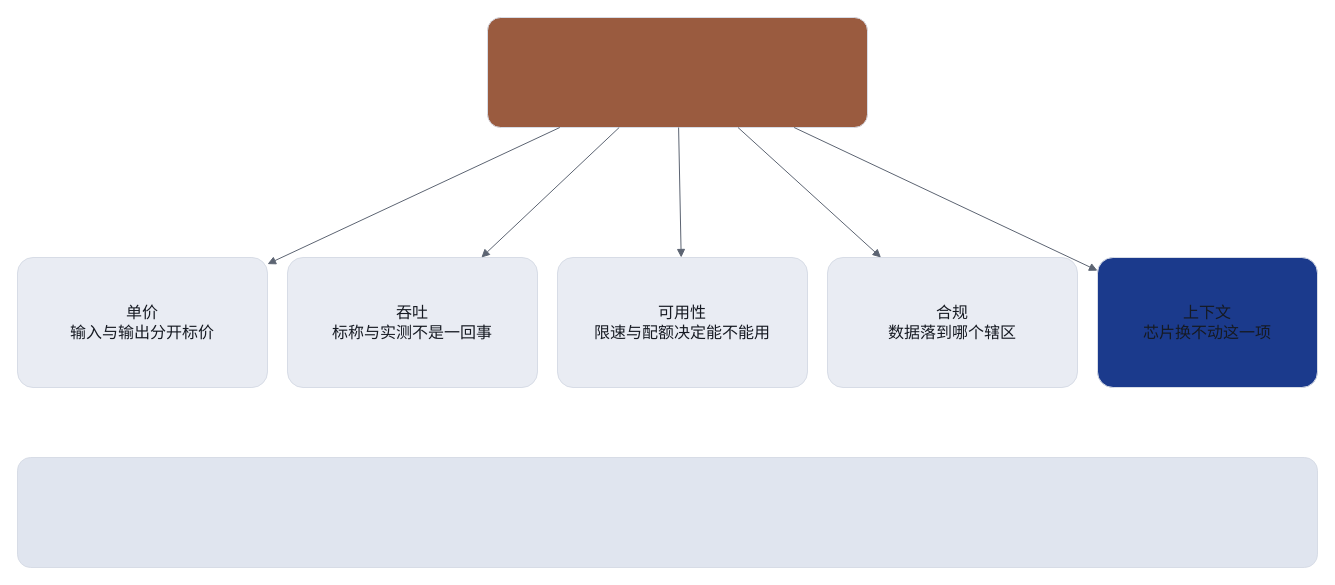
This 1335x585 diagram has some shape labels left out. Here are the shapes that lost their labels. From the top down, the centre of each, then its label:
At point (677, 72): "同一份权重人人可卖 稀缺项从「有没有」挪到了「好不好」".
At point (667, 512): "前两项能靠单位成本解释，后三项由模型结构与软件栈决定 所以「更快更便宜」只覆盖了一半的竞争面".
